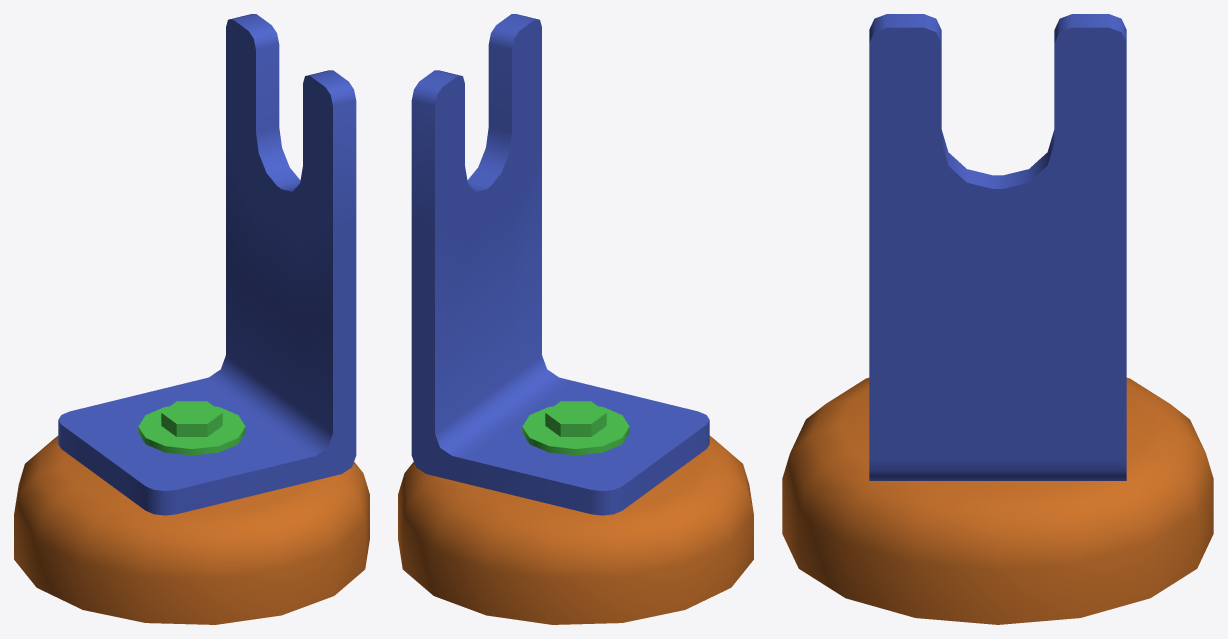
File: torch_stand.fbx
The picture shows the model from 3 angles, left to right: view 1: azimuth 30°, elevation 25°; view 2: azimuth 150°, elevation 25°; view 3: azimuth 270°, elevation 25°; orthographic projection. The views are drawn at different scales.
Parts seen in each view (by area): view 1: Stand; view 2: Stand; view 3: Stand.
Boxes of the visible parts, <box> form: Stand: <box>14,14,369,624</box>; Stand: <box>398,14,753,624</box>; Stand: <box>782,14,1213,624</box>.
Size of the model in its own units: 242 by 353 by 242.
